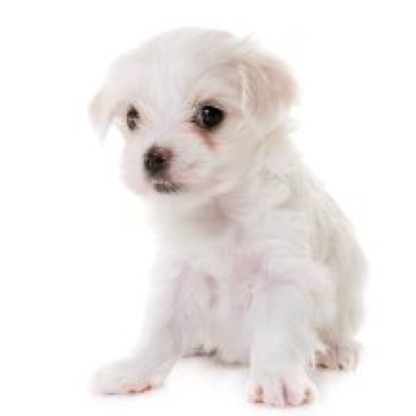maltese: (77, 18, 387, 405)
